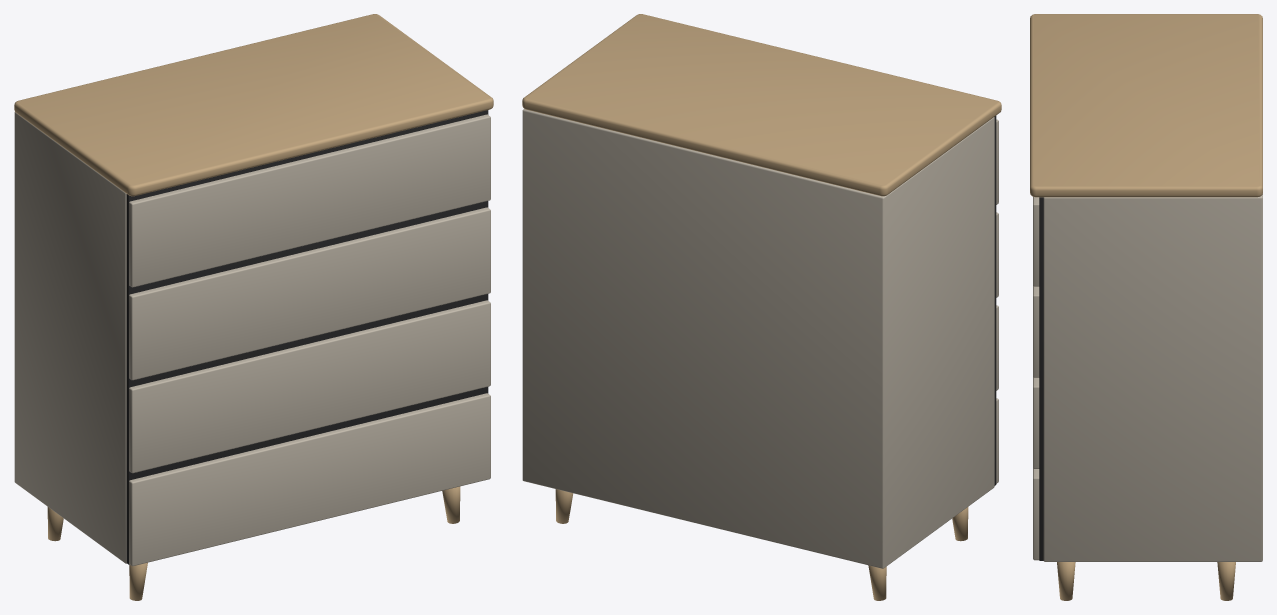
File: dresser.glb
3 renders of one model, left to right at view 1: azimuth 30°, elevation 25°; view 2: azimuth 150°, elevation 25°; view 3: azimuth 270°, elevation 25°, orthographic.
Parts seen in each view (by area): view 1: top, body, drawer0, drawer2, drawer3, drawer1, drawer_groove; view 2: body, top, drawer_groove; view 3: body, top, drawer_groove, drawer2, drawer0, drawer1, drawer3, leg1, leg3.
Part boxes in pixels (left/top/right/bottom): top: left=14, top=14, right=493, bottom=196; body: left=14, top=112, right=126, bottom=563; drawer0: left=129, top=393, right=490, bottom=566; drawer2: left=129, top=207, right=490, bottom=380; drawer3: left=129, top=114, right=490, bottom=287; drawer1: left=129, top=300, right=490, bottom=473; drawer_groove: left=126, top=110, right=488, bottom=564; body: left=522, top=109, right=994, bottom=568; top: left=522, top=14, right=1001, bottom=196; drawer_groove: left=994, top=116, right=996, bottom=485; body: left=1043, top=193, right=1262, bottom=561; top: left=1030, top=14, right=1262, bottom=197; drawer_groove: left=1039, top=197, right=1043, bottom=560; drawer2: left=1033, top=285, right=1039, bottom=377; drawer0: left=1033, top=468, right=1039, bottom=560; drawer1: left=1033, top=377, right=1039, bottom=468; drawer3: left=1033, top=197, right=1039, bottom=286; leg1: left=1057, top=562, right=1075, bottom=600; leg3: left=1217, top=562, right=1235, bottom=600.
Size of the model in its own units: 0.8 by 0.901 by 0.45.
